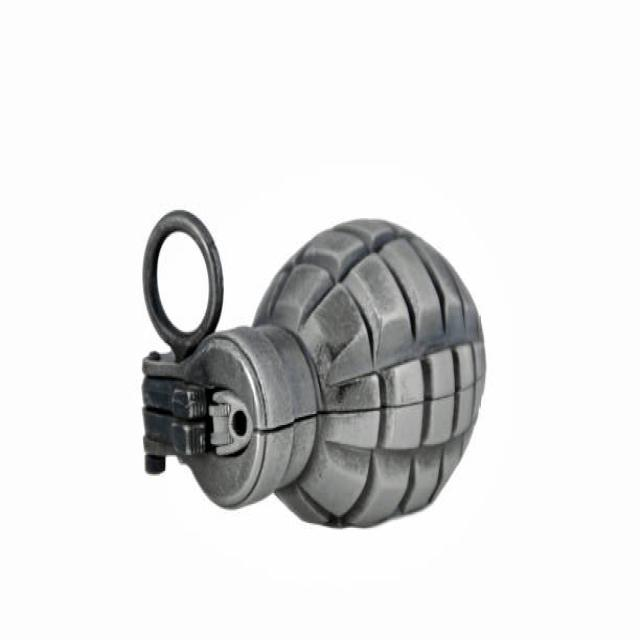grenade: (130, 201, 502, 542)
